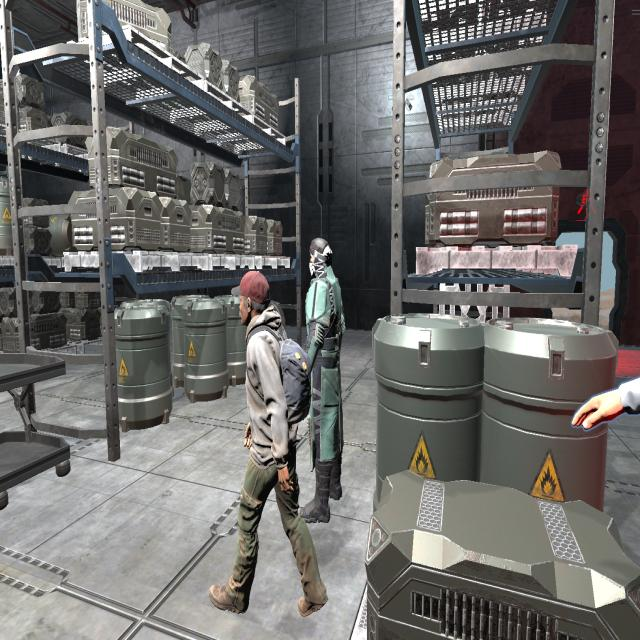thiefs: (204, 266, 336, 627)
